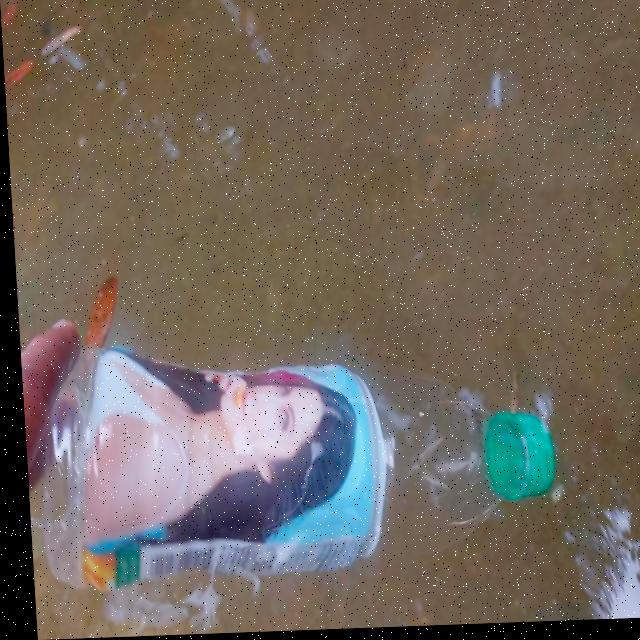leaf: (66, 265, 127, 342), (2, 42, 40, 101), (0, 0, 37, 37)
waterbottle: (30, 337, 564, 610)
